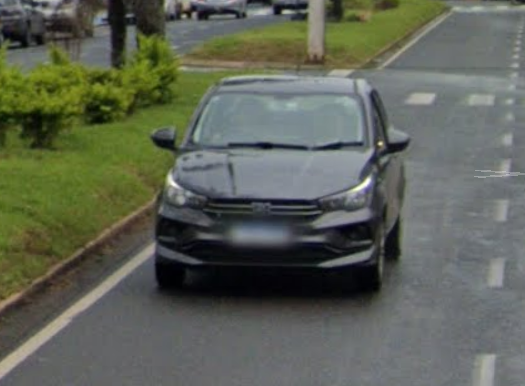car: (144, 60, 420, 310)
